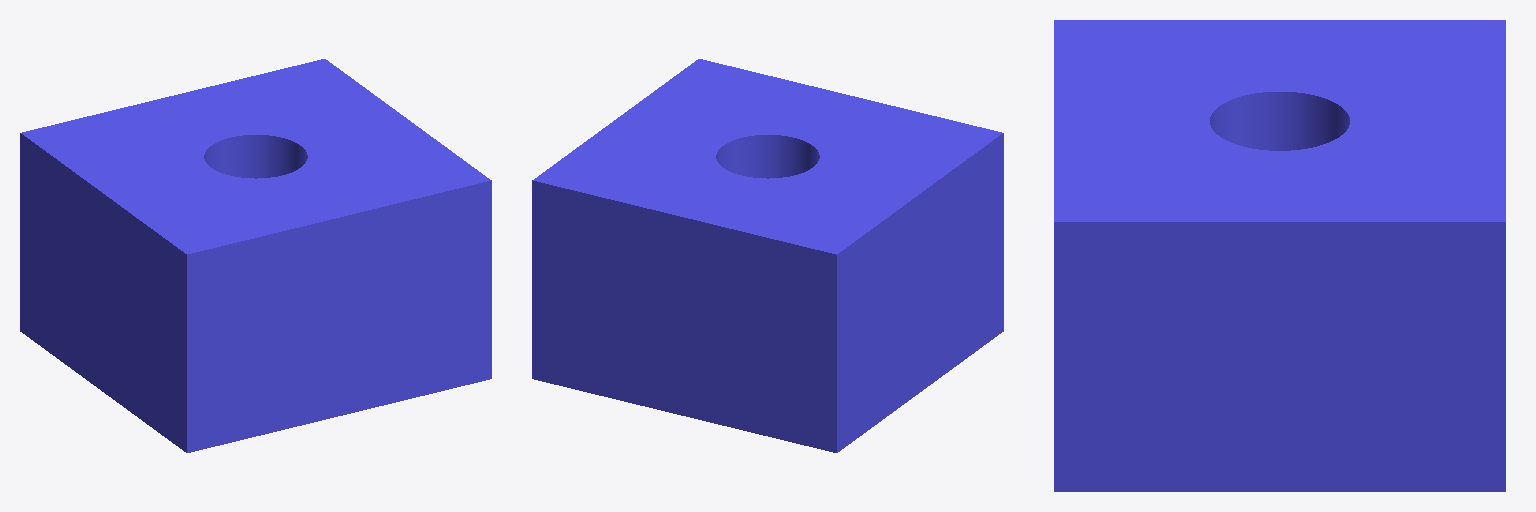
URDF robot description (insertion_box.urdf):
<?xml version="0.0" ?>
<robot name="insertion_box.urdf">
  <link name="block">
    <inertial>
      <origin xyz="0 0 0" />
      <mass value="10" />
      <inertia  ixx="0.00003375" ixy="0.0"  ixz="0.0"  iyy="0.00003375"  iyz="0.0"  izz="0.00003375" />
    </inertial>

    <visual>
      <origin rpy="0 0 0" xyz="0 0 0"/>
      <geometry>
        <mesh filename="../meshes/stl/visual/hole.stl" scale="0.001 0.001 0.001"/>
      </geometry>
       <material name="white">
        <color rgba="0.4 0.4 1.0 1"/>
      </material>
    </visual>

    <collision concave="yes">
      <origin rpy="0 0 0" xyz="0 0 0"/>
      <geometry>
           <mesh filename="../meshes/stl/collision/hole.stl" scale="0.001 0.001 0.001"/>
      </geometry>
    </collision>
  </link>
</robot>

--- What the picture shows (computed from the rendered views, not written in the file) ---
The picture shows the robot from 3 angles, left to right: view 1: azimuth 30°, elevation 25°; view 2: azimuth 150°, elevation 25°; view 3: azimuth 270°, elevation 25°; orthographic projection.
Robot: insertion_box.urdf — 1 links, 0 joints (none); root link block; default pose: every joint at zero.
Visible links, largest first — view 1: block; view 2: block; view 3: block.
Boxes of the visible links, bbox=[...] form: block: bbox=[20, 59, 491, 452]; block: bbox=[532, 59, 1003, 452]; block: bbox=[1054, 20, 1505, 491].
Bounding box of the posed robot: 0.085 × 0.0805 × 0.053 m (x, y, z).
1 mesh visuals loaded from 1 distinct referenced files (1 binary STL).